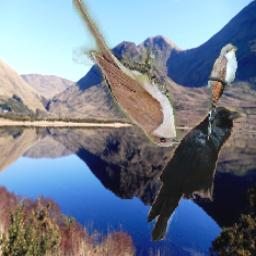Crow: (148, 107, 244, 242)
Cuckoo: (71, 0, 186, 148), (207, 43, 236, 141)
